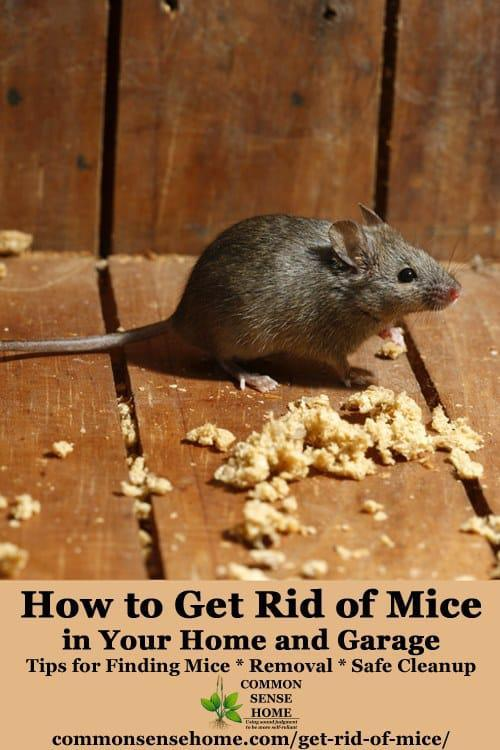rat: (1, 206, 459, 394)
